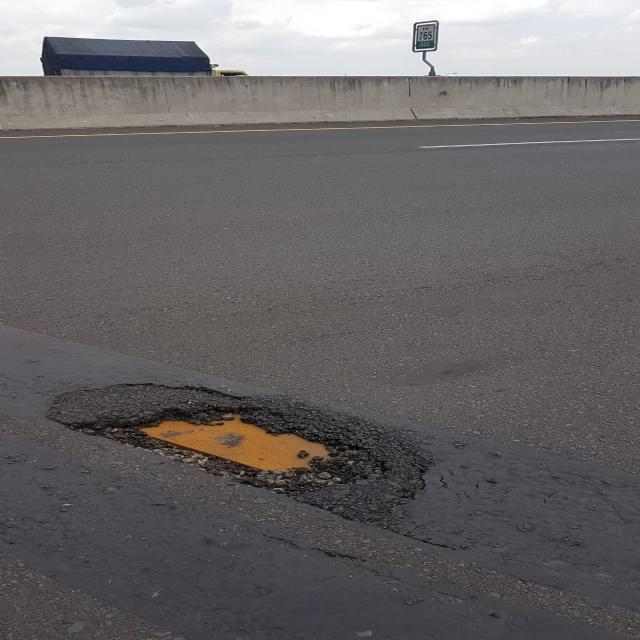Buraco: (59, 402, 397, 500)
